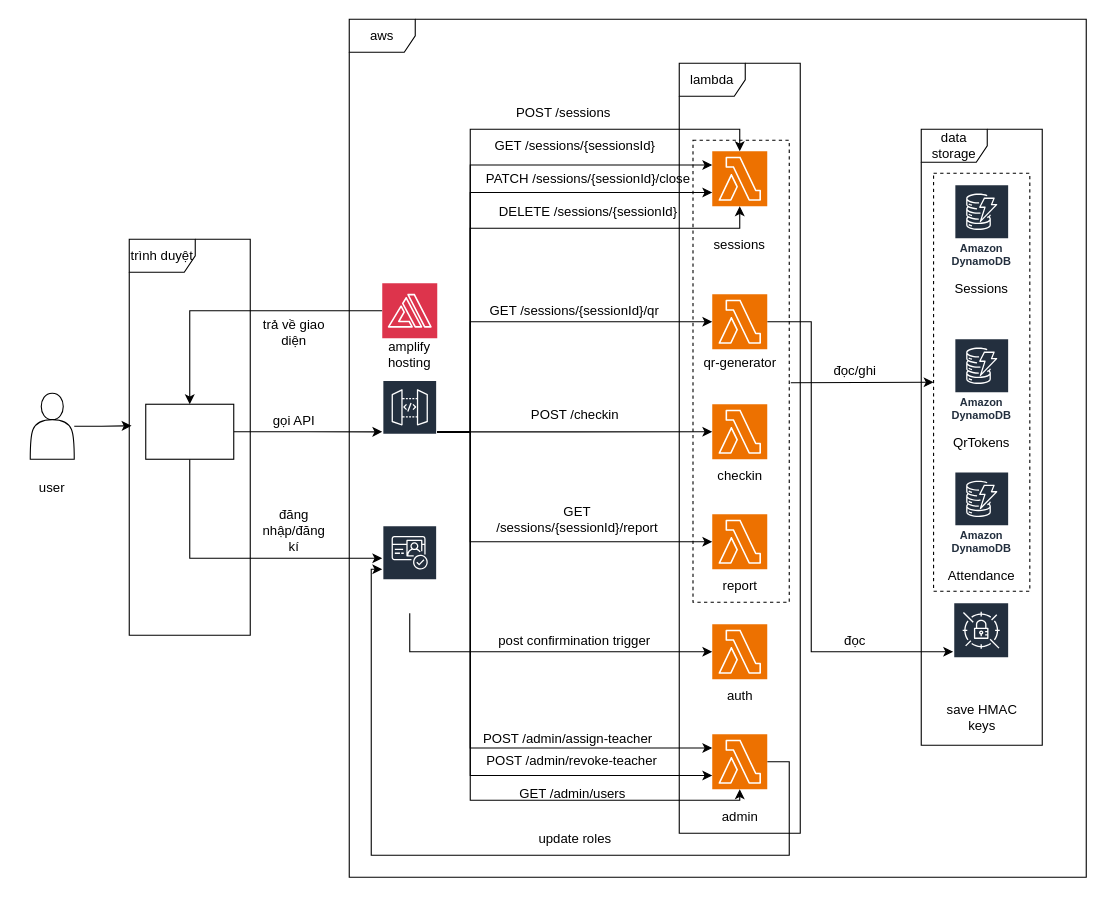
Image size: 1106x897. Some labels were removed from this diagram. Each missing label, with the box of its shape:
Amazon API Gateway: (381, 379, 437, 484)
Amazon Cognito: (381, 524, 437, 613)
AWS Secrets Manager: (952, 601, 1009, 701)
frontend web (react): (145, 403, 234, 459)
